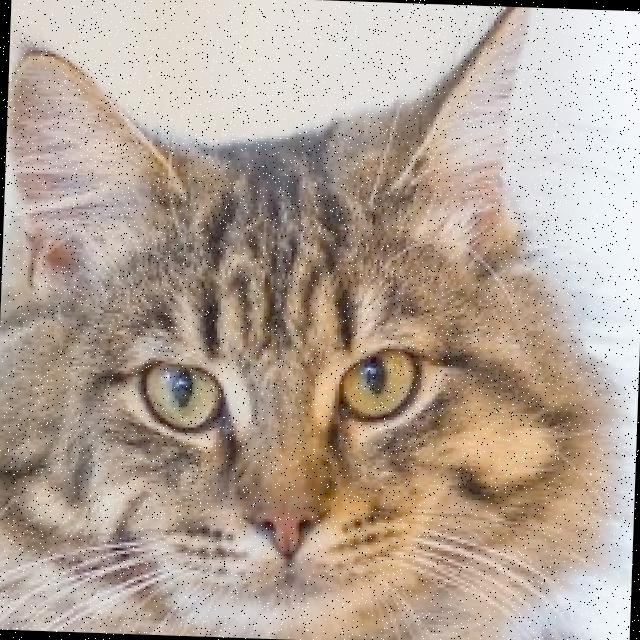Angry: (49, 286, 503, 638)
